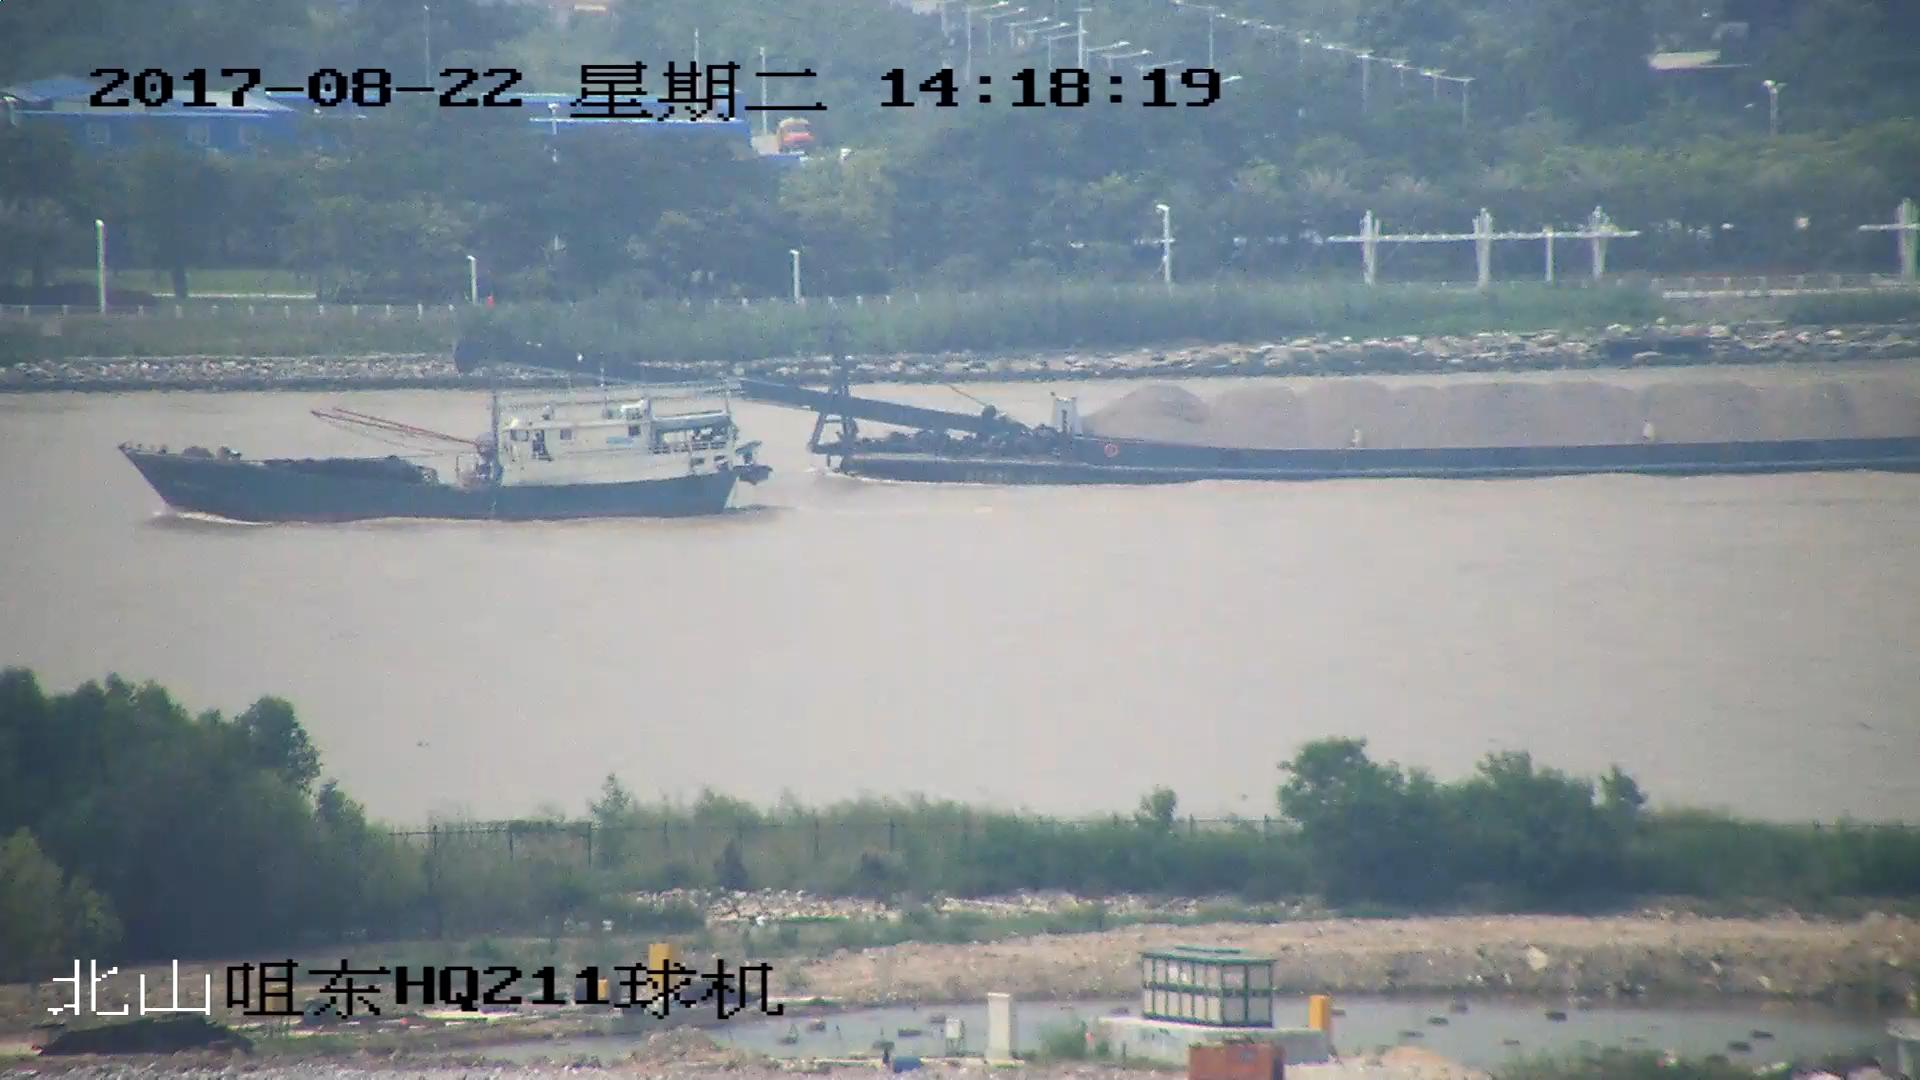fishing boat: (121, 297, 772, 520)
ore carrier: (457, 327, 1920, 481)
